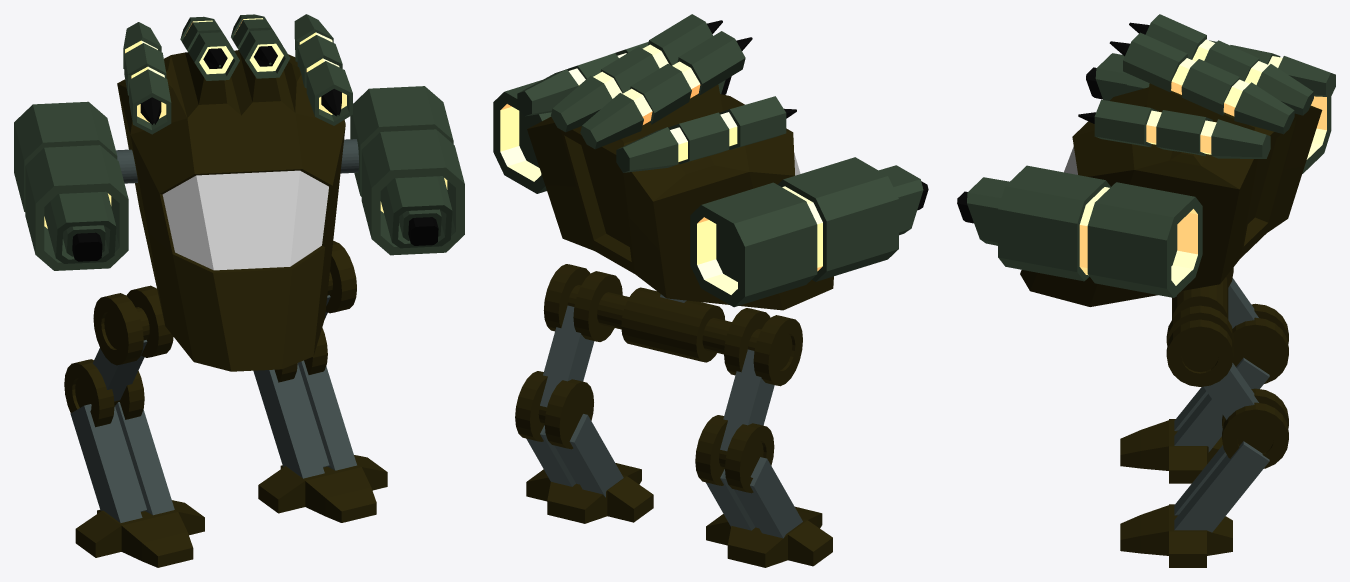
Rendered from MechaFinal.fbx.
3 renders of one model, left to right at view 1: azimuth 30°, elevation 25°; view 2: azimuth 150°, elevation 25°; view 3: azimuth 270°, elevation 25°, orthographic. The views are drawn at different scales.
Parts seen in each view (by area): view 1: Cube, Cube.005, Cube.003, Cube.004, Cylinder.004, Cylinder, Cylinder.003, Cylinder.001, Cube.002, Cylinder.002; view 2: Cube.005, Cube, Cylinder, Cylinder.003, Cylinder.004, Cube.004, Cylinder.001, Cube.003, Cube.002; view 3: Cube.005, Cube, Cylinder.003, Cylinder.004, Cube.004, Cube.003, Cylinder.001, Cylinder, Cube.002.
Part boxes in pixels (x1=…): Cube: x1=117, y1=50, x2=345, y2=371; Cube.005: x1=14, y1=86, x2=464, y2=270; Cube.003: x1=70, y1=360, x2=356, y2=522; Cube.004: x1=75, y1=455, x2=387, y2=567; Cylinder.004: x1=123, y1=14, x2=352, y2=134; Cylinder: x1=93, y1=241, x2=356, y2=365; Cylinder.003: x1=180, y1=14, x2=290, y2=80; Cylinder.001: x1=64, y1=328, x2=327, y2=427; Cube.002: x1=92, y1=295, x2=330, y2=401; Cylinder.002: x1=116, y1=139, x2=358, y2=183; Cube.005: x1=493, y1=76, x2=928, y2=307; Cube: x1=527, y1=84, x2=833, y2=310; Cylinder: x1=543, y1=264, x2=802, y2=386; Cylinder.003: x1=551, y1=14, x2=752, y2=149; Cylinder.004: x1=517, y1=42, x2=796, y2=172; Cube.004: x1=526, y1=463, x2=832, y2=567; Cylinder.001: x1=515, y1=371, x2=774, y2=493; Cube.003: x1=526, y1=414, x2=802, y2=538; Cube.002: x1=540, y1=305, x2=774, y2=451; Cube.005: x1=957, y1=53, x2=1331, y2=297; Cube: x1=1020, y1=83, x2=1322, y2=306; Cylinder.003: x1=1109, y1=14, x2=1313, y2=134; Cylinder.004: x1=1078, y1=40, x2=1335, y2=158; Cube.004: x1=1120, y1=419, x2=1232, y2=567; Cube.003: x1=1174, y1=357, x2=1269, y2=532; Cylinder.001: x1=1222, y1=303, x2=1288, y2=468; Cylinder: x1=1166, y1=267, x2=1233, y2=386; Cube.002: x1=1204, y1=278, x2=1258, y2=419.
Size of what is drawn, in the model's own units: 439 by 502 by 369.
